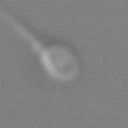normal: (1, 6, 44, 54)
